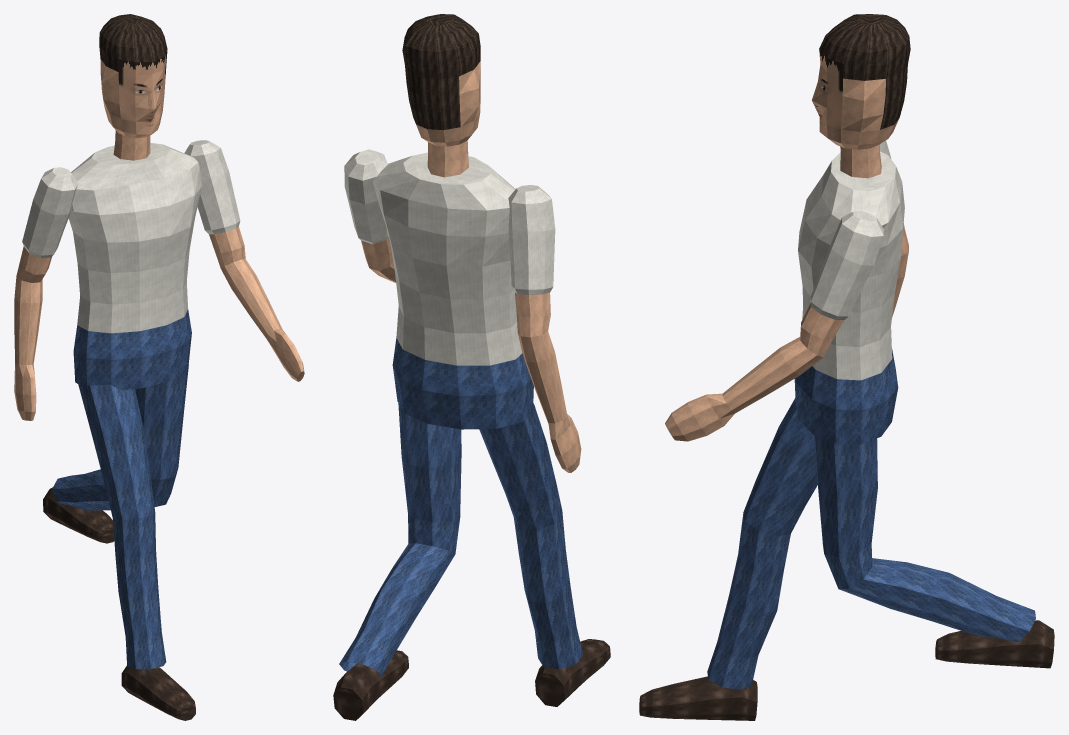
The model's file is walk_18.obj.
3 renders of one model, left to right at view 1: azimuth 30°, elevation 25°; view 2: azimuth 150°, elevation 25°; view 3: azimuth 270°, elevation 25°, orthographic. The views are drawn at different scales.
Bounding box in the file's own units: 0.6214 × 1.8 × 0.9344.
Materials: 25 (25 with a texture image).
